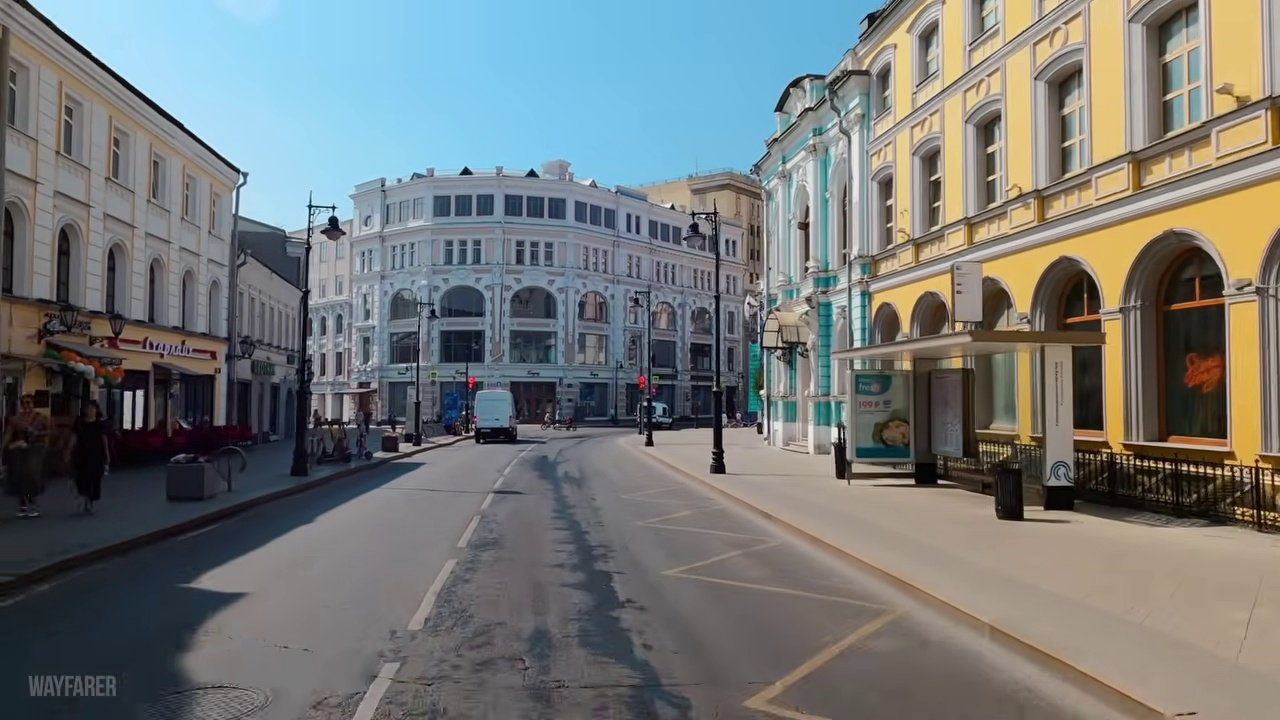apagada: (316, 211, 347, 243), (681, 221, 705, 247)
